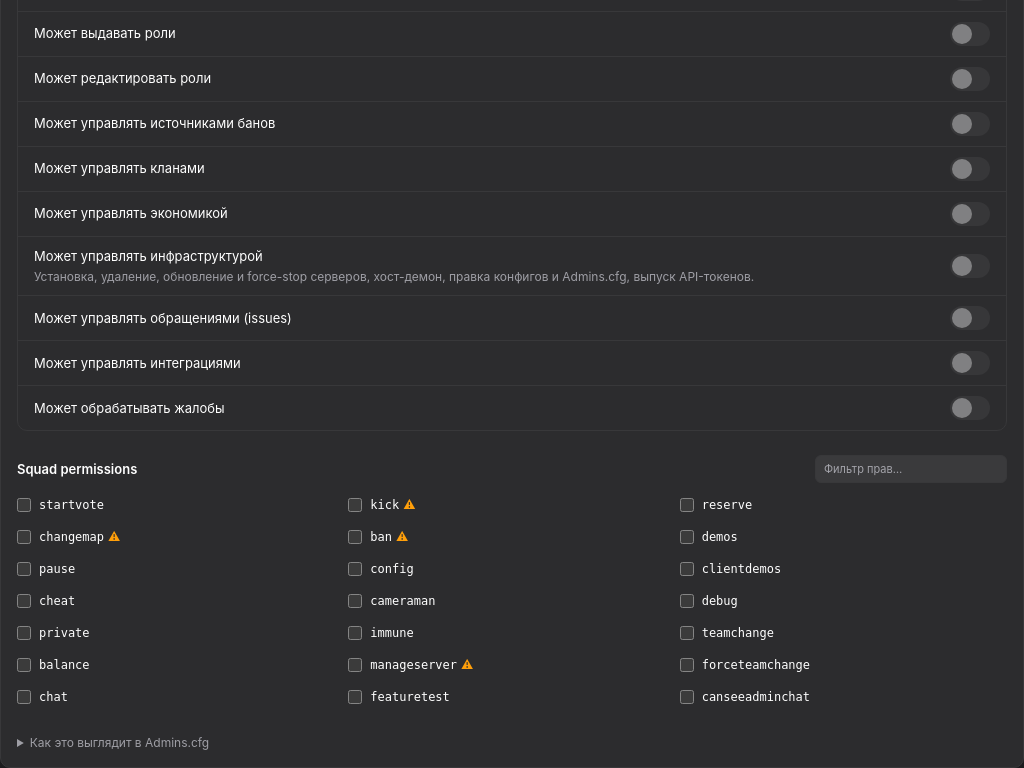
realtime permission filter (ROLE-6) › shows an empty-result hint when nothing matches
This screenshot has width=1024, height=768.
(page scrolled)
Type "zzznope" into the search field labelled "Фильтр прав".
click(911, 469); type("zzznope")  # box [815,455,1007,483]
(page scrolled)
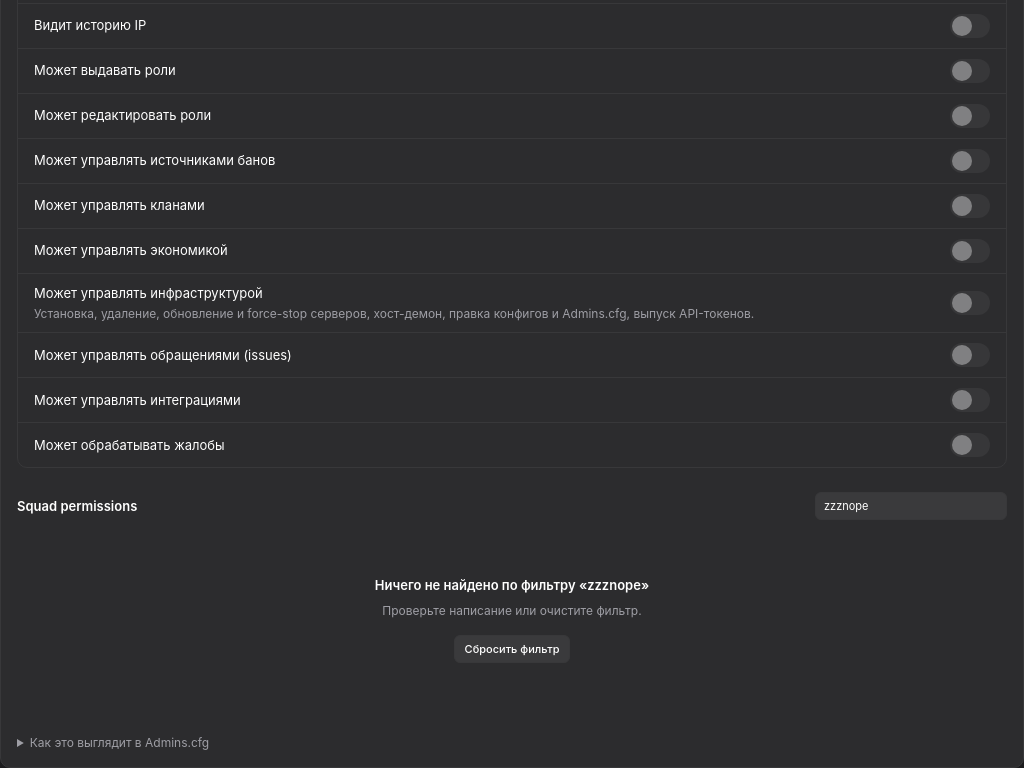
Result: the text "Ничего не найдено по фильтру «zzznope»" is shown at [375,576,649,595]
Result: the text "kick" is gone
